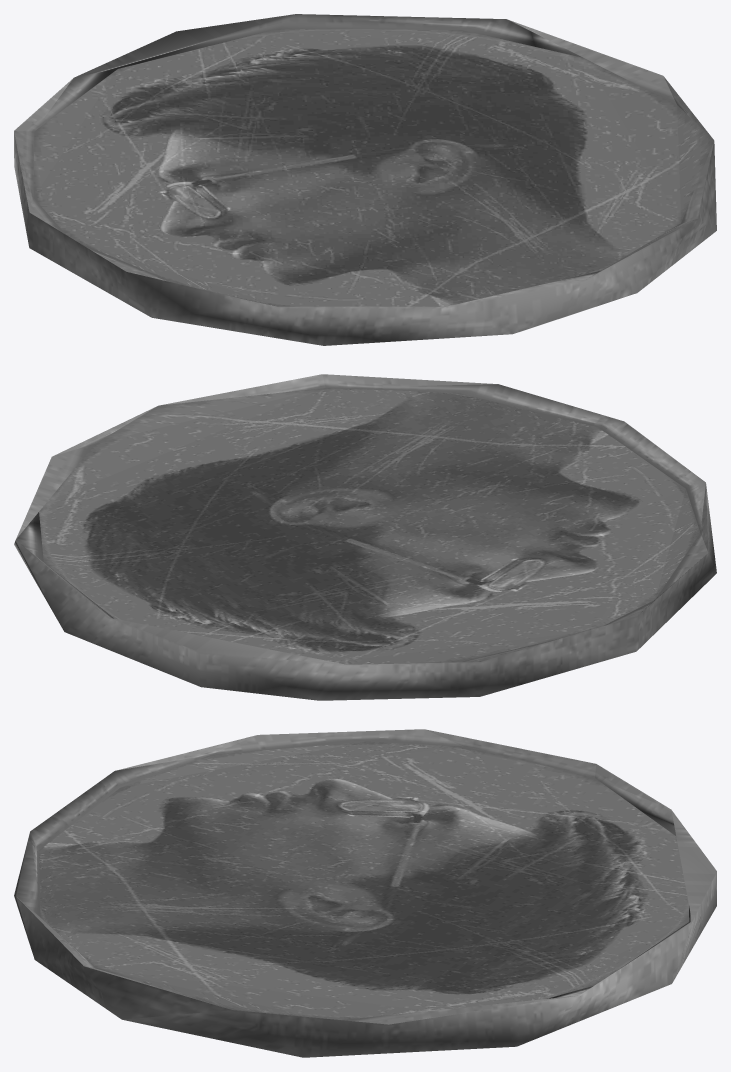
The model's file is SmithCoin.fbx.
The picture shows the model from 3 angles, top to bottom: view 1: azimuth 30°, elevation 25°; view 2: azimuth 150°, elevation 25°; view 3: azimuth 270°, elevation 25°; orthographic projection. The views are drawn at different scales.
Visible parts, largest first — view 1: Coin-Freepoly.org; view 2: Coin-Freepoly.org; view 3: Coin-Freepoly.org.
Part boxes in pixels (x1,y1,x2,y2): Coin-Freepoly.org: (14, 14, 716, 345); Coin-Freepoly.org: (14, 374, 716, 700); Coin-Freepoly.org: (14, 729, 716, 1057).
Bounding box in the file's own units: 31.64 × 1.85 × 31.85.
